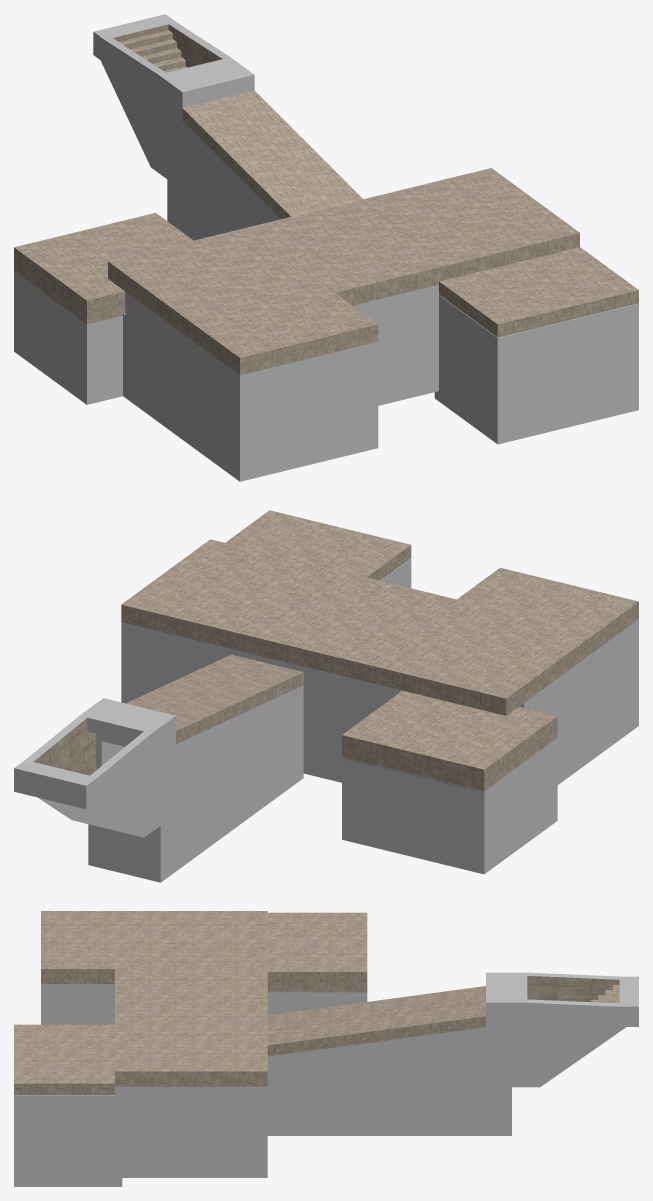
File: Tutankamon_Separated.fbx
3 renders of one model, top to bottom at view 1: azimuth 30°, elevation 25°; view 2: azimuth 150°, elevation 25°; view 3: azimuth 270°, elevation 25°, orthographic. The views are drawn at different scales.
Visible parts, largest first — view 1: Tavan_B, Body.008, Body.006, Body.005, Tavan_A_intrare, Tavan_C, Tavan_D, Body.007, Body, Floor.004, Body.002; view 2: Tavan_B, Body.005, Body.007, Tavan_D, Body, Body.008, Tavan_A_intrare, Tavan_C, Body.002; view 3: Body.005, Tavan_B, Body, Body.006, Tavan_A_intrare, Tavan_D, Tavan_C, Body.008, Body.002, Body.007, Floor.004.
Part boxes in pixels (x1,y1,x2,y2): Tavan_B: [108, 168, 579, 375]; Body.008: [123, 291, 378, 481]; Body.006: [434, 295, 638, 444]; Body.005: [93, 14, 280, 240]; Tavan_A_intrare: [182, 90, 362, 219]; Tavan_C: [439, 247, 638, 337]; Tavan_D: [14, 212, 193, 324]; Body.007: [14, 269, 125, 404]; Body: [353, 284, 438, 405]; Floor.004: [113, 24, 188, 72]; Body.002: [169, 24, 222, 67]; Tavan_B: [121, 539, 638, 715]; Body.005: [14, 685, 303, 882]; Body.007: [342, 738, 557, 874]; Tavan_D: [342, 690, 557, 792]; Body: [121, 622, 400, 782]; Body.008: [400, 619, 638, 784]; Tavan_A_intrare: [126, 654, 303, 743]; Tavan_C: [225, 510, 411, 580]; Body.002: [33, 718, 96, 775]; Body.005: [267, 972, 638, 1135]; Tavan_B: [41, 911, 267, 1086]; Body: [115, 1086, 267, 1177]; Body.006: [14, 1095, 122, 1186]; Tavan_A_intrare: [267, 986, 485, 1056]; Tavan_D: [267, 912, 367, 992]; Tavan_C: [14, 1024, 114, 1094]; Body.008: [41, 984, 114, 1024]; Body.002: [527, 976, 619, 1001]; Body.007: [267, 990, 367, 1014]; Floor.004: [588, 980, 619, 1003].
Size of the model in its own units: 1447 by 530 by 2175.
